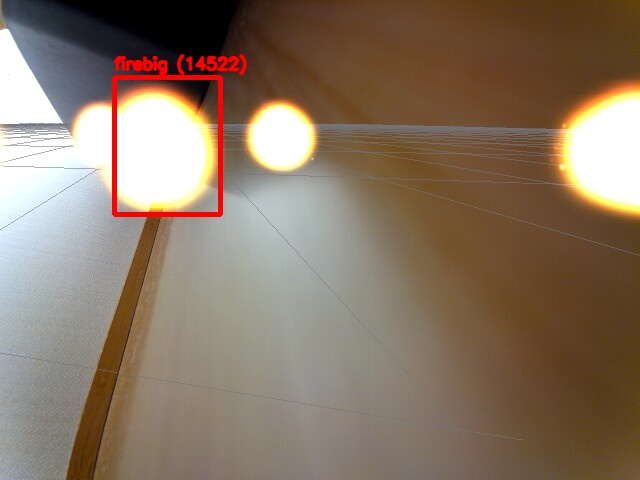firebig: (114, 77, 220, 214)
